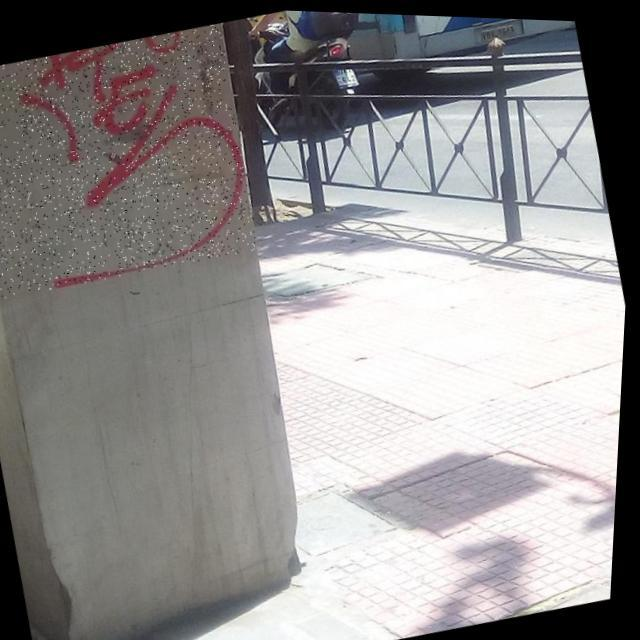-: (0, 14, 270, 307)
